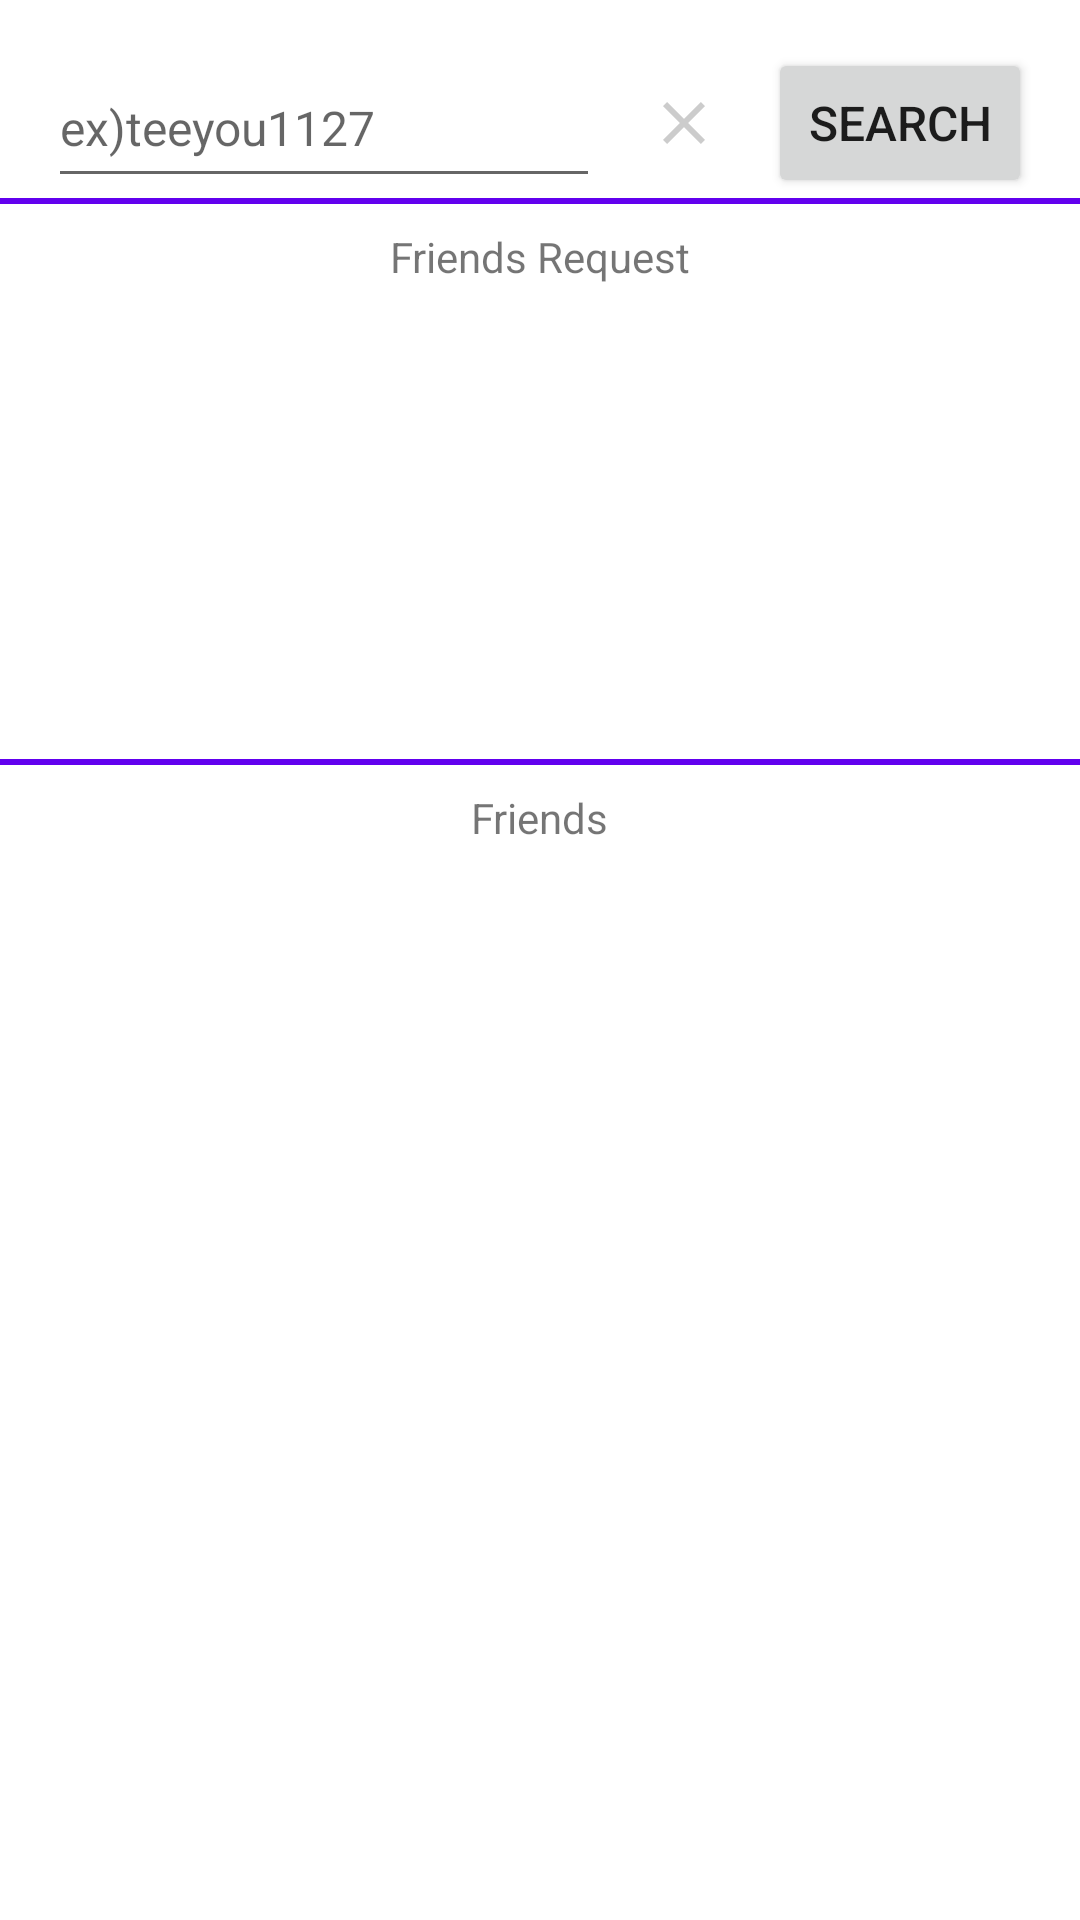

Icon bounding boxes for this 1080 × 1920 phone screenshot, format [left=x1, top=y1, right=x2, bottom=y2]:
Delete: [left=663, top=102, right=705, bottom=144]
